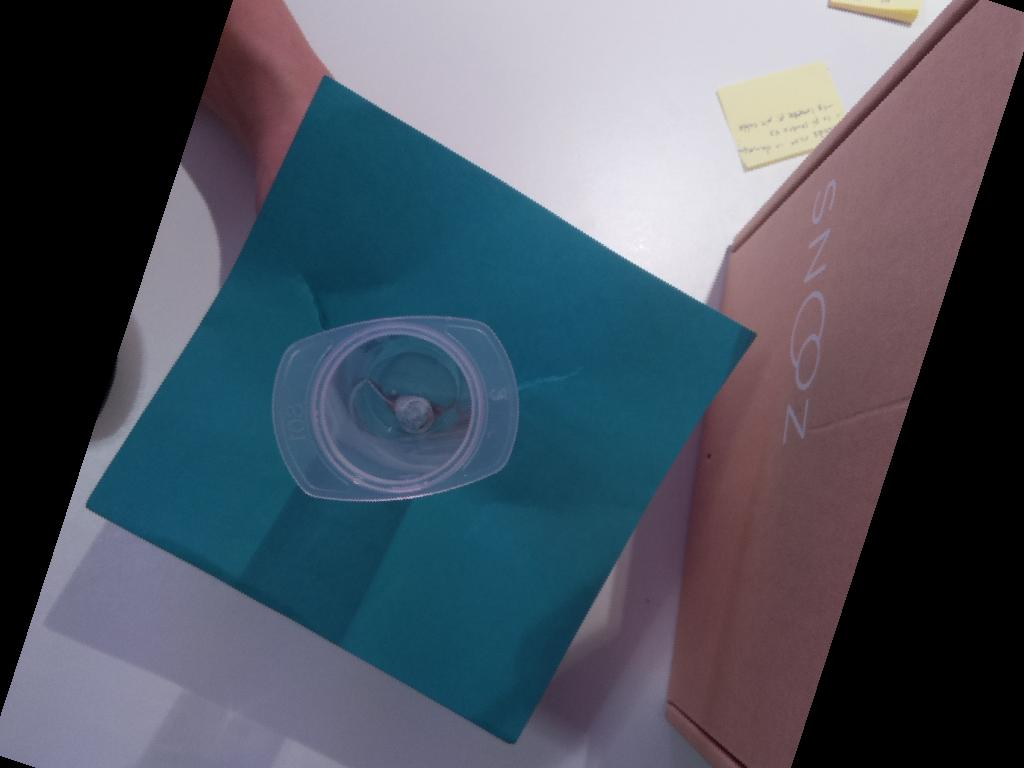clean: (270, 312, 525, 504)
